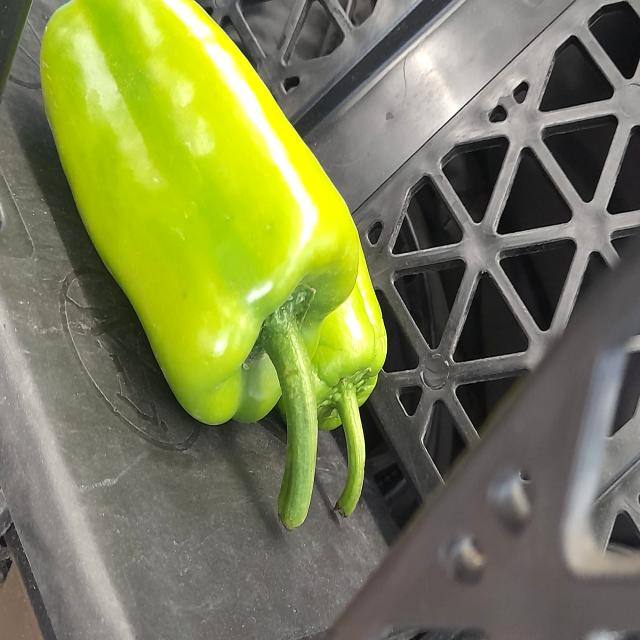bell pepper: (40, 0, 357, 528)
